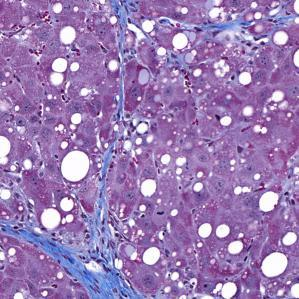fibrosis: (36, 228, 139, 290)
